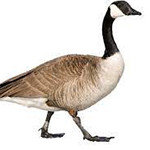geese: (103, 1, 143, 40)
